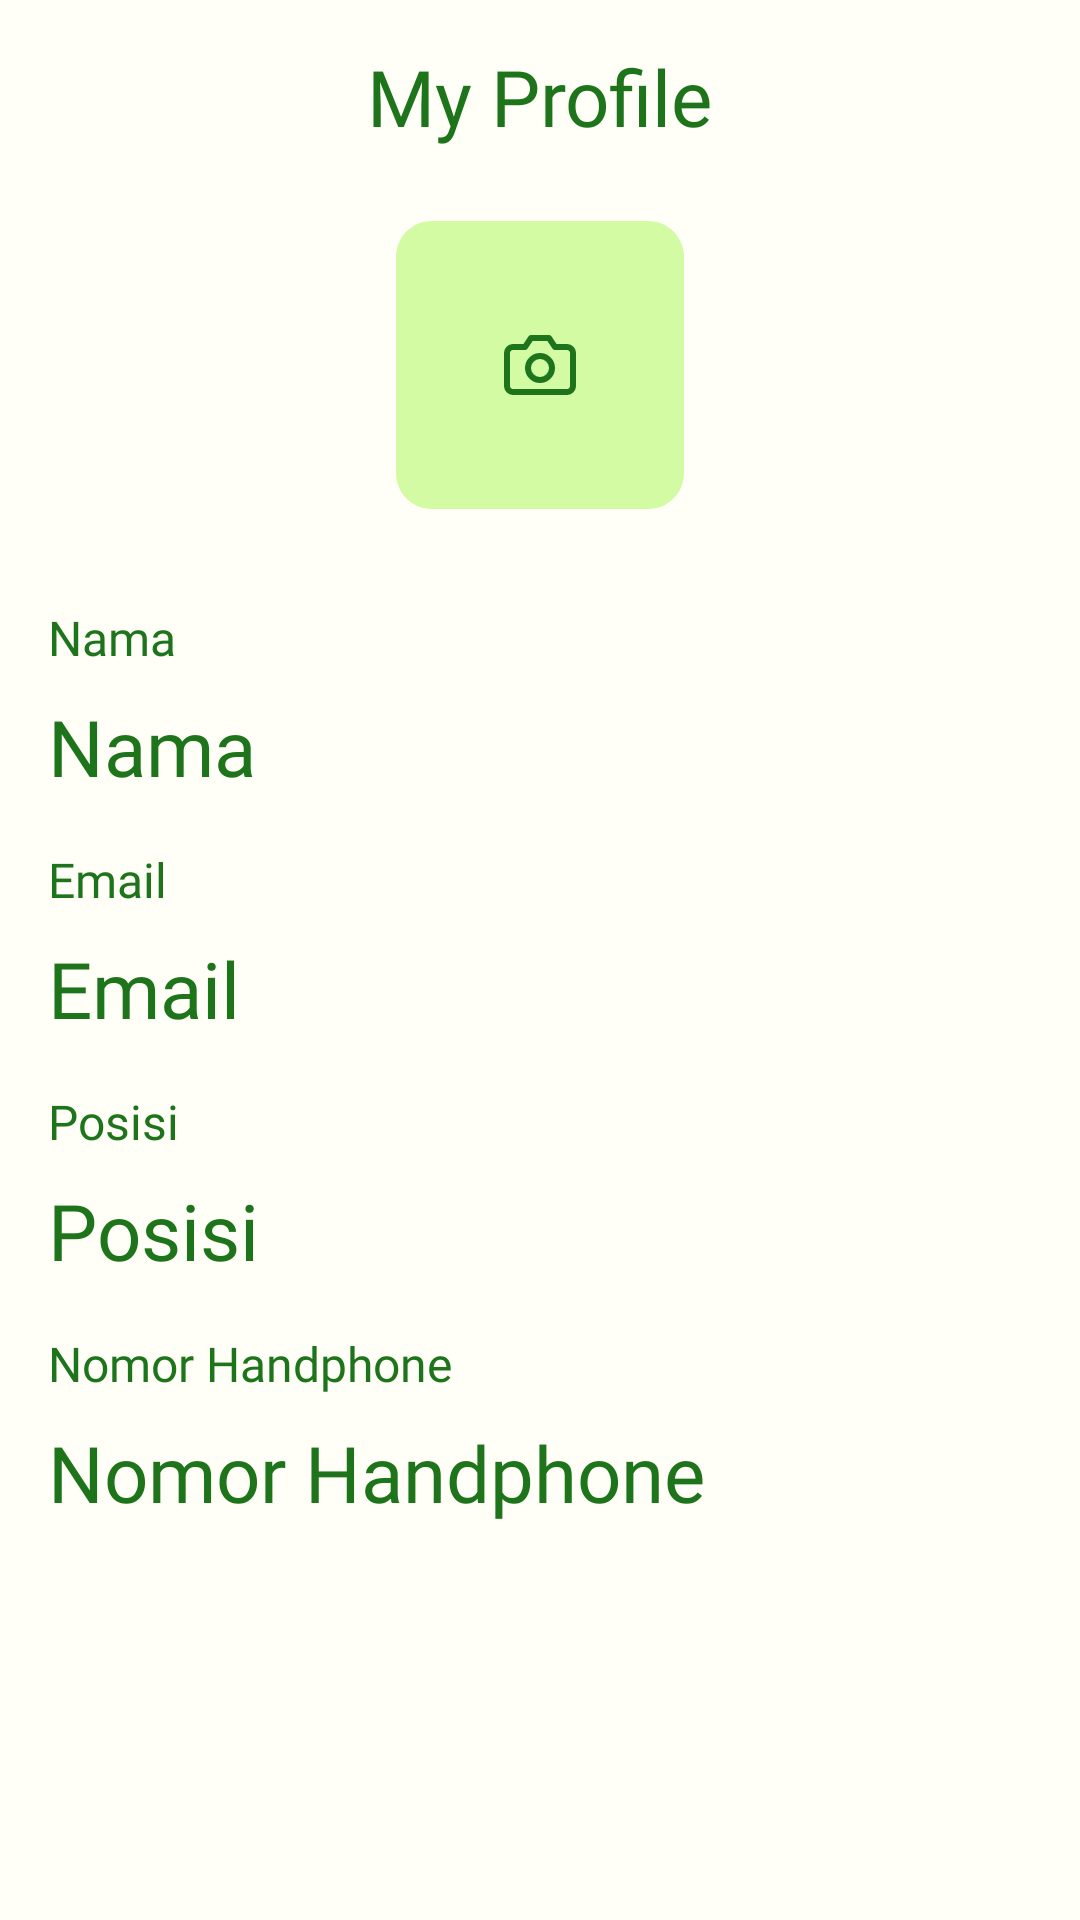

Locate icon controls on the screen. Image size 1080x1920, boxes as bbox(x1, y1, x2, y2).
select photo: bbox(396, 221, 684, 509)
